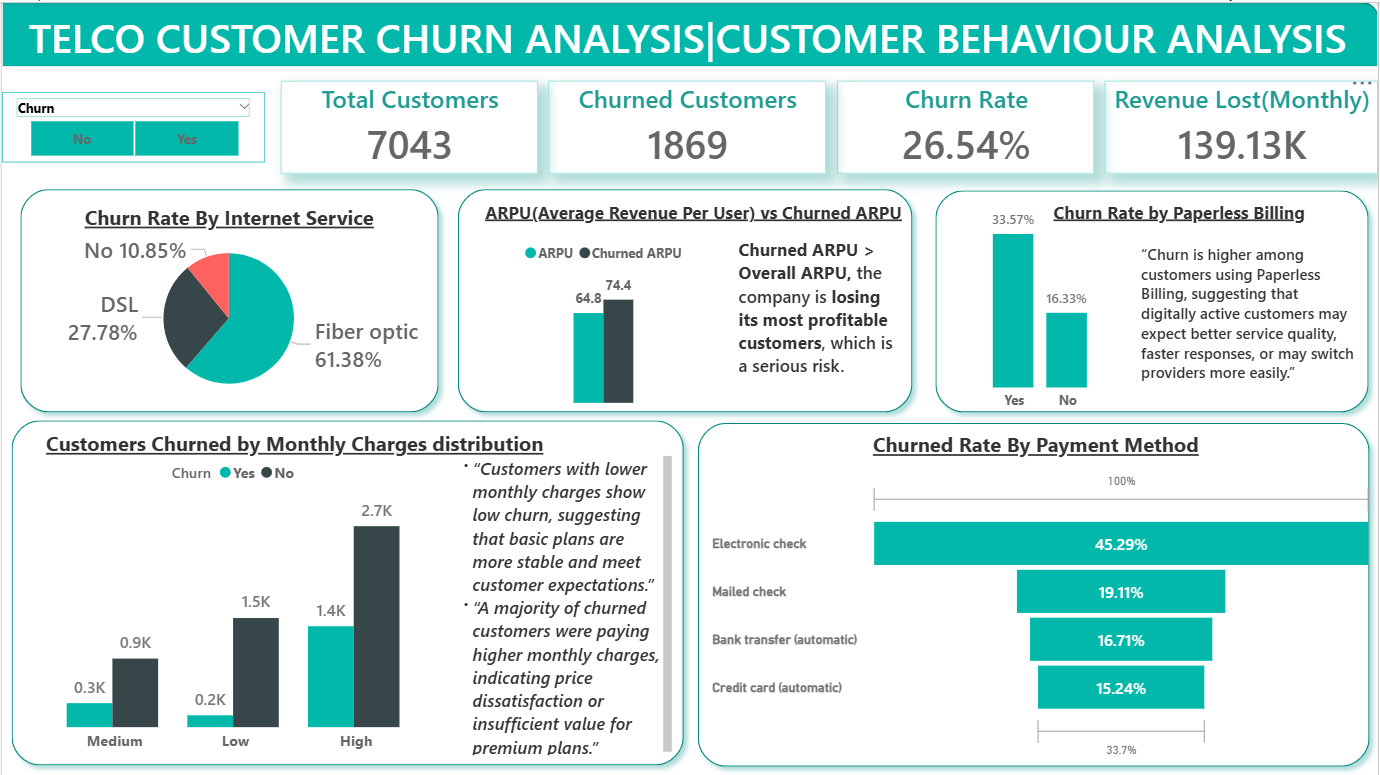

Layout of this report page (visuals, bound fields, positions):
{"tool":"powerbi","page":{"name":"Customer Behaviour Analysis","canvas":[1280,720],"ordinal":1},"visuals":[{"type":"shape","box":[0,0,1280.3,60.4],"z":0},{"type":"shape","box":[415,164.6,440.7,225.6],"z":0,"group":"g11"},{"type":"group","id":"g1","title":"Group 2","box":[8.2,165.3,407,225.6],"z":0,"group":"g7"},{"type":"group","id":"g2","title":"Group 1","box":[8.2,165.3,407,225.6],"z":0,"group":"g1"},{"type":"shape","box":[8.2,165.3,407,225.6],"z":0,"group":"g2"},{"type":"shape","box":[859.3,166.3,420.9,224.4],"z":0,"group":"g6"},{"type":"group","id":"g3","title":"Group 1","box":[0,379.8,643.1,338.9],"z":0,"group":"g5"},{"type":"shape","box":[0,379.8,643.1,338.9],"z":0,"group":"g3"},{"type":"card","title":"Total Customers","fields":{"Values":["Measures Table.Total customers"]},"box":[259.6,73.8,239.1,86.1],"z":1000},{"type":"clusteredColumnChart","fields":{"Category":["Customer Churn Table.PaperlessBilling"],"Y":["Measures Table.Churn Rate"]},"box":[871.6,179.7,189.2,208.6],"z":1000,"group":"g6"},{"type":"pieChart","fields":{"Category":["Customer Churn Table.InternetService"],"Y":["Measures Table.Churn Rate"]},"box":[23.3,211.6,375.8,165.8],"z":1000,"group":"g7"},{"type":"shape","box":[638.3,382,642.6,337.7],"z":1000,"group":"g9"},{"type":"textbox","box":[69.6,182.4,283.2,41.5],"z":2000,"group":"g7"},{"type":"textbox","box":[1055.1,219.2,208.1,158.1],"z":2000,"group":"g6"},{"type":"textbox","box":[0,383.9,643,334.7],"z":2000},{"type":"card","title":"Churn Rate","fields":{"Values":["Measures Table.Churn Rate"]},"box":[776.4,73.3,239.5,86],"z":3000},{"type":"textbox","box":[973.7,178.5,276.7,34.9],"z":3000,"group":"g6"},{"type":"card","title":"Churned Customers","fields":{"Values":["Measures Table.Churned customers"]},"box":[508.5,73.3,258.1,86],"z":4000},{"type":"card","title":"Revenue Lost(Monthly)","fields":{"Values":["Measures Table.Revenue Lost from Churn"]},"box":[1025.3,73.3,254.7,86],"z":5000},{"type":"group","id":"g4","title":"Group 3","box":[0,379.8,643.6,338.9],"z":6000},{"type":"group","id":"g5","title":"Group 2","box":[0,379.8,643.1,338.9],"z":6000,"group":"g4"},{"type":"group","id":"g6","title":"Group 7","box":[859.3,166.3,420.9,224.4],"z":7000},{"type":"clusteredColumnChart","title":"Customers Churned by Monthly Charges distribution","fields":{"Category":["Customer Churn Table.Monthly Charges distribution"],"Series":["Customer Churn Table.Churn"],"Y":["Measures Table.Total customers"]},"box":[11,417.5,414.1,289.1],"z":7000,"group":"g4"},{"type":"group","id":"g7","title":"Group 8","box":[8.2,165.3,407.2,226.8],"z":8000},{"type":"funnel","fields":{"Category":["Customer Churn Table.PaymentMethod"],"Y":["Measures Table.Churn Rate"]},"box":[655.7,431.5,625.2,276.3],"z":8000,"group":"g9"},{"type":"group","id":"g8","title":"Group 5","box":[638.3,382,641.9,336.6],"z":9000},{"type":"slicer","fields":{"Values":["Customer Churn Table.Churn"]},"box":[0,83.3,244.6,65.6],"z":10000},{"type":"textbox","box":[36.5,393.2,486,48.6],"z":10004,"group":"g4"},{"type":"textbox","box":[415.3,417.2,213.1,287.8],"z":10004,"group":"g5"},{"type":"textbox","box":[722.8,388.9,425.4,35.2],"z":10006,"group":"g10"},{"type":"group","id":"g9","title":"Group 4","box":[638.3,382,642.3,337.1],"z":10011,"group":"g10"},{"type":"group","id":"g10","title":"Group 6","box":[638.3,382,642.3,337.1],"z":10013,"group":"g8"},{"type":"textbox","box":[679.9,212.9,155.8,152.3],"z":11000,"group":"g12"},{"type":"clusteredColumnChart","title":"ARPU Vs Churned ARPU","fields":{"Y":["Measures Table.ARPU","Measures Table.Churned ARPU"]},"box":[452.6,212.9,218.6,165.1],"z":12000,"group":"g12"},{"type":"textbox","box":[666.2,393.6,590.8,38.3],"z":12000},{"type":"group","id":"g11","title":"Group 10","box":[415,164.6,440.7,225.6],"z":13000},{"type":"textbox","box":[434.9,178.1,416.7,34.2],"z":13001,"group":"g12"},{"type":"group","id":"g12","title":"Group 9","box":[434.9,178.1,416.7,199.9],"z":13002,"group":"g11"}]}

Visuals, with their boxes in screenshot pixels (x1, y1, x2, y2), scaled from the page's 1280x720 canvas onto the 1380x775 screenshot:
shape: select_region(0, 0, 1379, 65)
shape: select_region(447, 177, 923, 420)
"Group 2" group: select_region(9, 178, 448, 421)
"Group 1" group: select_region(9, 178, 448, 421)
shape: select_region(9, 178, 448, 421)
shape: select_region(926, 179, 1379, 421)
"Group 1" group: select_region(0, 409, 693, 774)
shape: select_region(0, 409, 693, 774)
"Total Customers" card: select_region(280, 79, 538, 172)
clusteredColumnChart - Customer Churn Table.PaperlessBilling x Measures Table.Churn Rate: select_region(940, 193, 1144, 418)
pieChart - Customer Churn Table.InternetService x Measures Table.Churn Rate: select_region(25, 228, 430, 406)
shape: select_region(688, 411, 1379, 774)
textbox: select_region(75, 196, 380, 241)
textbox: select_region(1138, 236, 1362, 406)
textbox: select_region(0, 413, 693, 773)
"Churn Rate" card: select_region(837, 79, 1095, 171)
textbox: select_region(1050, 192, 1348, 230)
"Churned Customers" card: select_region(548, 79, 826, 171)
"Revenue Lost(Monthly)" card: select_region(1105, 79, 1379, 171)
"Group 3" group: select_region(0, 409, 694, 774)
"Group 2" group: select_region(0, 409, 693, 774)
"Group 7" group: select_region(926, 179, 1379, 421)
"Customers Churned by Monthly Charges distribution" clusteredColumnChart: select_region(12, 449, 458, 761)
"Group 8" group: select_region(9, 178, 448, 422)
funnel - Customer Churn Table.PaymentMethod x Measures Table.Churn Rate: select_region(707, 464, 1379, 762)
"Group 5" group: select_region(688, 411, 1379, 773)
slicer - Customer Churn Table.Churn: select_region(0, 90, 264, 160)
textbox: select_region(39, 423, 563, 476)
textbox: select_region(448, 449, 677, 759)
textbox: select_region(779, 419, 1238, 456)
"Group 4" group: select_region(688, 411, 1379, 774)
"Group 6" group: select_region(688, 411, 1379, 774)
textbox: select_region(733, 229, 901, 393)
"ARPU Vs Churned ARPU" clusteredColumnChart: select_region(488, 229, 724, 407)
textbox: select_region(718, 424, 1355, 465)
"Group 10" group: select_region(447, 177, 923, 420)
textbox: select_region(469, 192, 918, 229)
"Group 9" group: select_region(469, 192, 918, 407)
